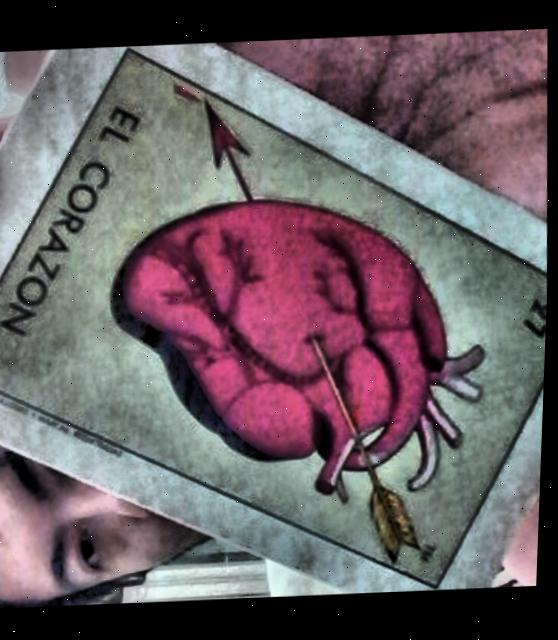El Corazon: (0, 47, 549, 583)
